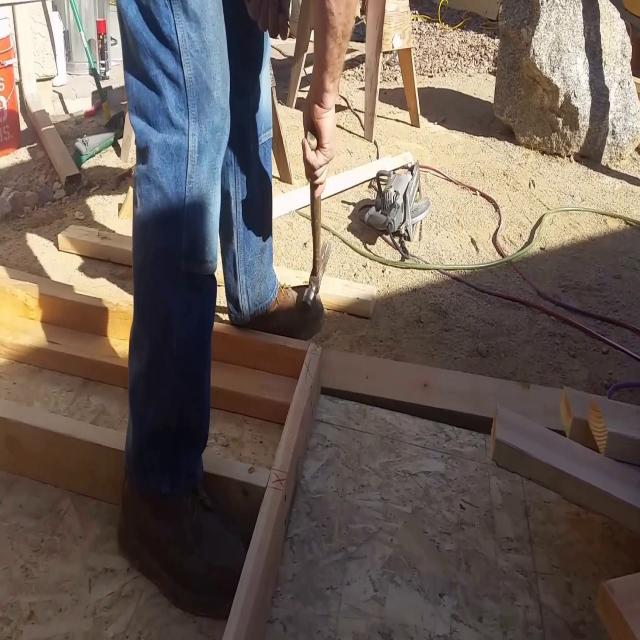hammer: (301, 125, 331, 314)
